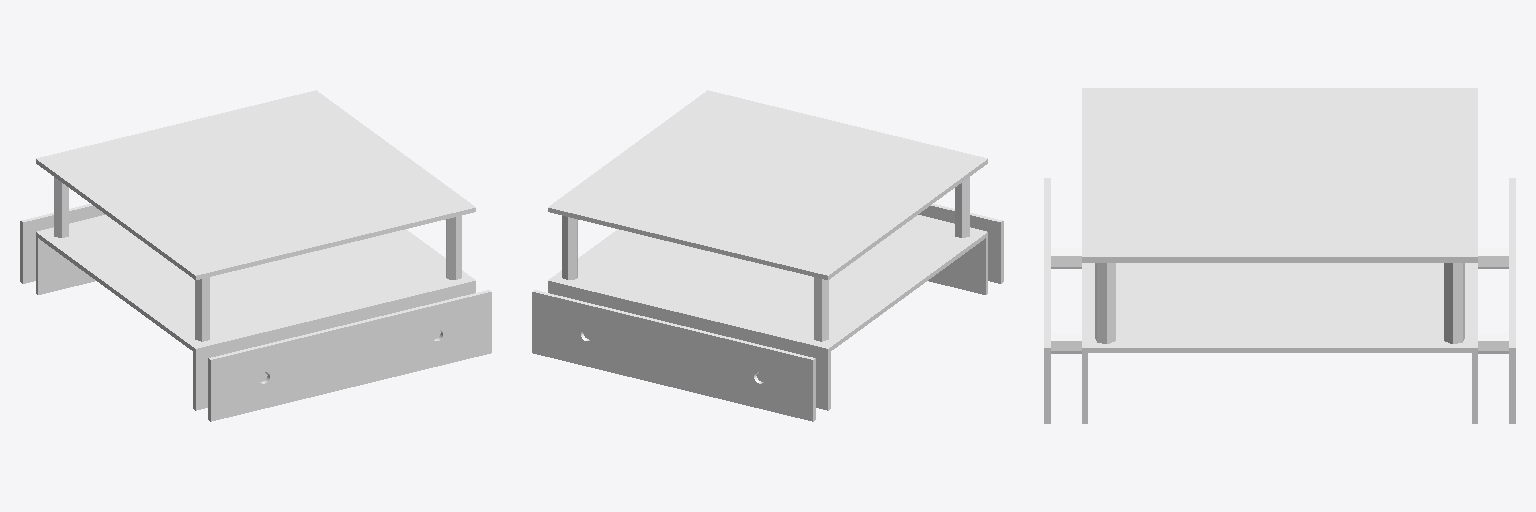
The robot description file, URDF, robot "agrovexr":
<?xml	version="1.0"?>
<robot	name="agrovexr">
		<link	name="base_link">
				<visual>
						<geometry>
								<mesh filename="package://agrovex_description/meshes/chasis_vex.dae" scale="1 1 1"	/>
						</geometry>
						<origin	rpy="0 0 1.570796"	xyz="0 0 0.05"	/>
						<material	name="white">
								<color	rgba="1 1 1 1"	/>
						</material>
				</visual>
		</link>
		<link	name="wheel_1">
				<visual>
						<geometry>
								<mesh filename="package://agrovex_description/meshes/rueda1_vex.dae" scale="1 1 1"	/>
						</geometry>
						<origin	rpy="0 0 -1.570796"	xyz="0.02 -0.038 -0.024"	/>
						<material	name="black">
								<color	rgba="0 0 0 1"	/>
						</material>
				</visual>
		</link>
		<link	name="wheel_2">
				<visual>
						<geometry>
								<mesh filename="package://agrovex_description/meshes/rueda2_vex.dae" scale="1 1 1"	/>
						</geometry>
						<origin	rpy="0 0 -1.570796"	xyz="0.02 -0.038 -0.024"	/>
						<material	name="black"	/>
				</visual>
		</link>
		<link	name="wheel_3">
				<visual>
						<geometry>
								<mesh filename="package://agrovex_description/meshes/rueda3_vex.dae" scale="1 1 1"	/>
						</geometry>
						<origin	rpy="0 0 -1.570796"	xyz="-0.02 -0.038 -0.024"	/>
						<material	name="black"	/>
				</visual>
		</link>
		<link	name="wheel_4">
				<visual>	<geometry>
								<mesh filename="package://agrovex_description/meshes/rueda4_vex.dae" scale="1 1 1"	/>
						</geometry>
						<origin	rpy="0 0 -1.570796"	xyz="-0.02 -0.038 -0.024"	/>
						<material	name="black"	/>
				</visual>
		</link>
		<joint	name="base_to_wheel1"	type="continuous">
				<parent	link="base_link"	/>
				<child	link="wheel_1"	/>
				<origin	rpy="0 0 -1.570796"   xyz="0.07925 -0.151 0.027"	/>
				<axis xyz="1 0 0"	/>
		</joint>
		<joint	name="base_to_wheel2"	type="continuous">
				<parent	link="base_link"	/>
				<child	link="wheel_2"	/>
				<origin	rpy="0 0 -1.570796"   xyz="-0.07925 -0.151 0.027"	/>
				<axis xyz="1 0 0"	/>
		</joint>
		<joint	name="base_to_wheel3"	type="continuous">
				<parent	link="base_link"	/>
				<child	link="wheel_3"	/>
				<origin	rpy="0 0 -1.570796"   xyz="-0.07925 0.151 0.027"	/>
				<axis xyz="1 0 0"	/>
		</joint>
		<joint	name="base_to_wheel4"	type="continuous">
				<parent	link="base_link"	/>
				<child	link="wheel_4"	/>
				<origin rpy="0 0 -1.570796"	xyz="0.07925 0.151 0.027"	/>
				<axis xyz="1 0 0"	/>
		</joint>
</robot>

--- What the picture shows (computed from the rendered views, not written in the file) ---
3 views of the same robot in one strip: view 1: azimuth 30°, elevation 25°; view 2: azimuth 150°, elevation 25°; view 3: azimuth 270°, elevation 25° (orthographic).
Robot: agrovexr — 5 links, 4 joints (4 continuous); root link base_link; default pose: all joints at 0.
Visible links, largest first — view 1: base_link; view 2: base_link; view 3: base_link.
Boxes of the visible links, box(x1,y1,x2,y2) form: base_link: box(20, 90, 491, 421); base_link: box(532, 90, 1003, 421); base_link: box(1044, 88, 1515, 423).
Bounding box of the posed robot: 0.257 × 0.302 × 0.118 m (x, y, z).
Meshes: 5 distinct files referenced, 1 mesh visuals loaded (1 Collada DAE); not drawn: 4 (reference not matched to a file when rendering).